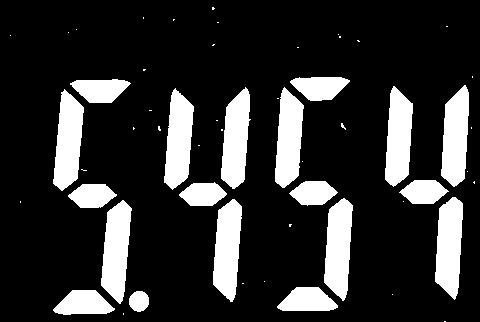4: (162, 79, 253, 308), (381, 83, 473, 301)
5: (50, 80, 136, 317), (274, 72, 357, 313)
dot: (129, 286, 152, 313)
